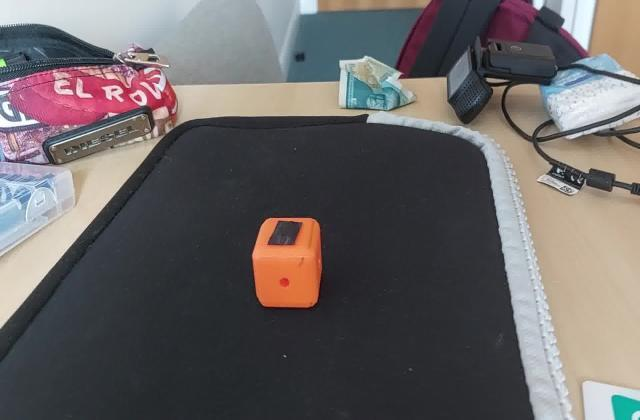black: (266, 220, 302, 250)
cube: (251, 214, 326, 312)
